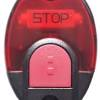bell: (4, 1, 97, 100)
